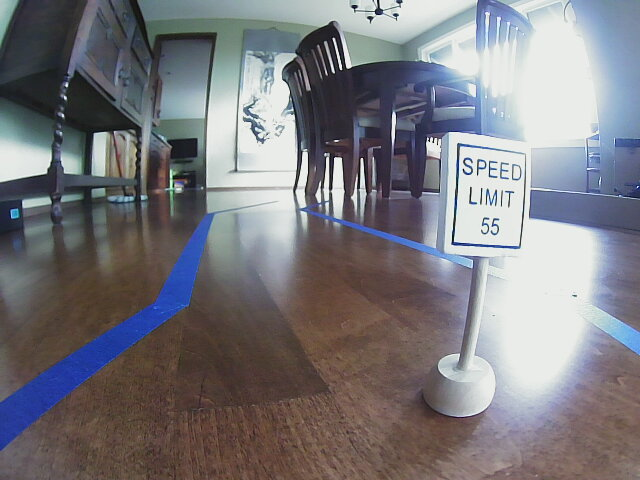SpeedLimit55: (445, 134, 521, 248)
